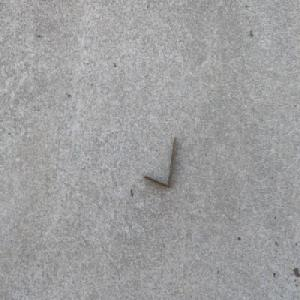MetalPart: (143, 134, 177, 189)
